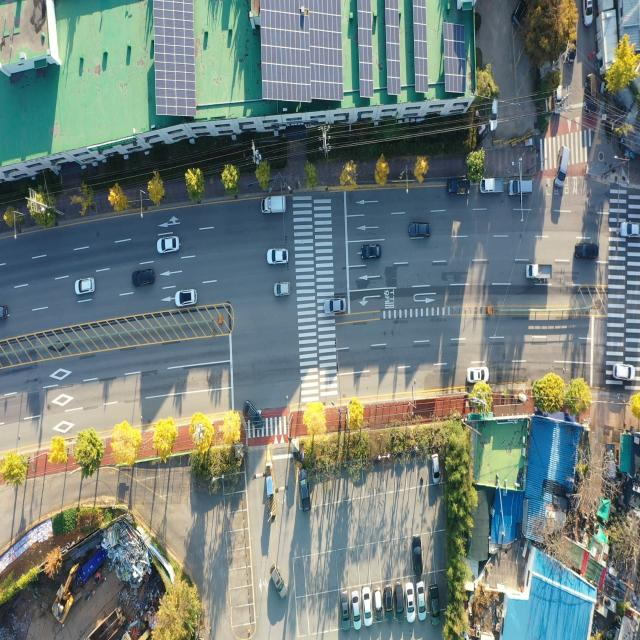car: (243, 396, 264, 434), (557, 148, 570, 190), (300, 470, 312, 512), (508, 177, 532, 198), (272, 569, 286, 601), (158, 237, 180, 255), (134, 270, 155, 288), (326, 299, 348, 316), (576, 243, 599, 259), (411, 221, 432, 238), (176, 289, 197, 306), (268, 248, 290, 264), (489, 94, 498, 132), (620, 220, 640, 237), (414, 540, 423, 576), (77, 278, 96, 295), (385, 585, 394, 620), (430, 585, 438, 624), (514, 0, 526, 26), (468, 367, 488, 382), (615, 364, 635, 379), (418, 584, 426, 621), (407, 584, 415, 621), (361, 243, 379, 259), (362, 588, 370, 624), (395, 583, 403, 619), (342, 594, 350, 629), (375, 588, 383, 619), (352, 592, 359, 625), (556, 86, 564, 114), (276, 282, 291, 296), (585, 0, 593, 26), (432, 455, 439, 483), (0, 306, 9, 320)
small_truck: (583, 74, 597, 113), (262, 197, 288, 216), (526, 264, 552, 281), (448, 179, 470, 196), (482, 178, 504, 195)
